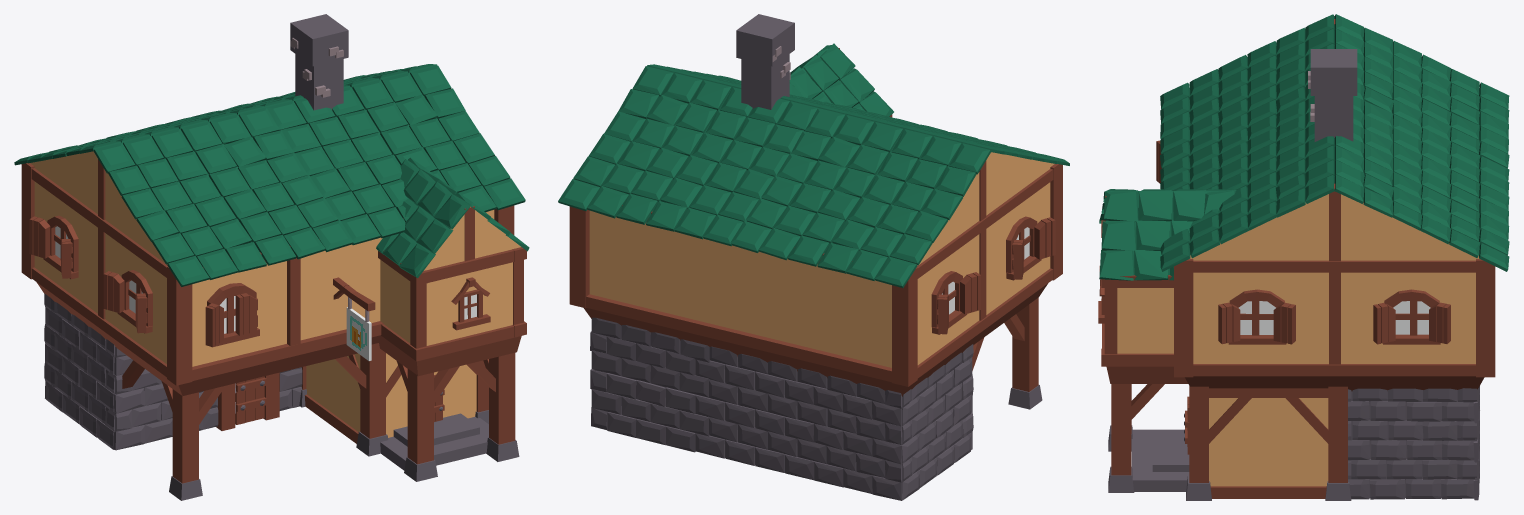
The model's file is Pub.fbx.
The picture shows the model from 3 angles, left to right: view 1: azimuth 30°, elevation 25°; view 2: azimuth 150°, elevation 25°; view 3: azimuth 270°, elevation 25°; orthographic projection. The views are drawn at different scales.
Parts seen in each view (by area): view 1: Дом паб; view 2: Дом паб; view 3: Дом паб.
Part boxes in pixels (x1,y1,x2,y2): Дом паб: (14, 14, 529, 500); Дом паб: (558, 14, 1069, 500); Дом паб: (1098, 14, 1509, 500).
Size of the model in its own units: 528 by 512 by 488.
